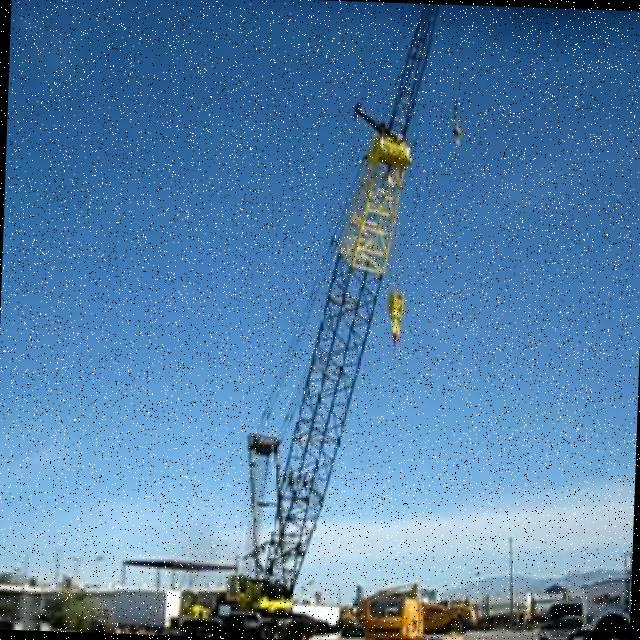Mobile Crane: (166, 0, 476, 640)
